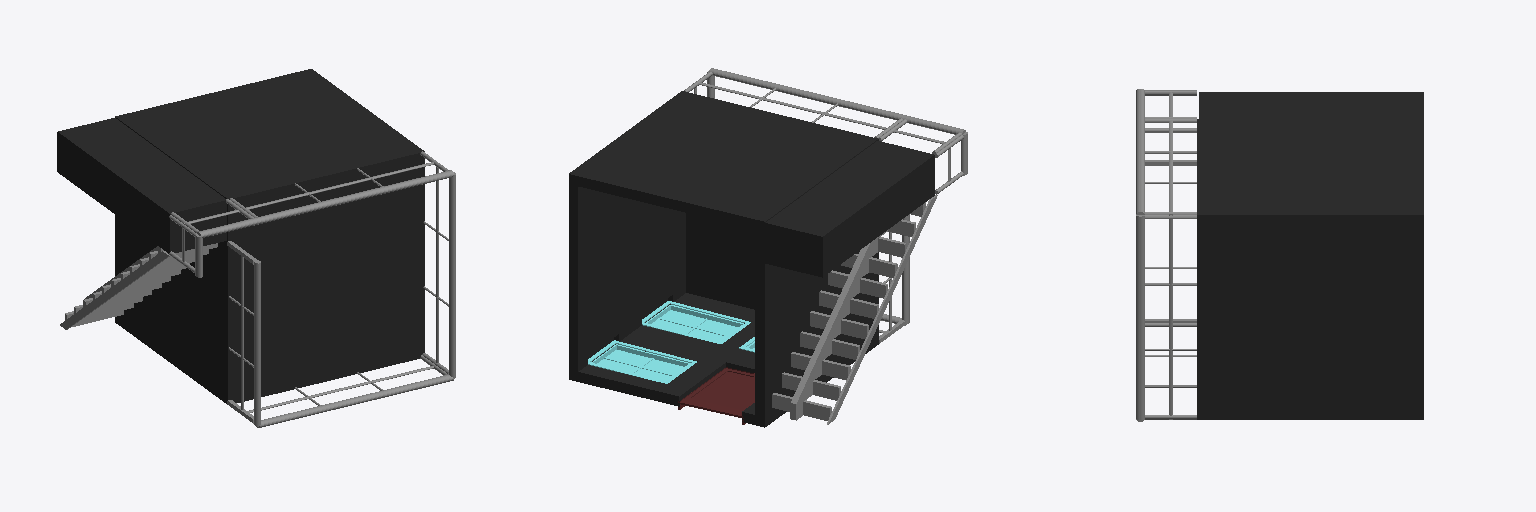
File: city.obj
3 views of the same model, side by side, from view 1: azimuth 30°, elevation 25°; view 2: azimuth 150°, elevation 25°; view 3: azimuth 270°, elevation 25° (orthographic).
Parts seen in each view (by area): view 1: Box001, Wall001, Box002, StraightStair001, Railing002, Railing003, Railing001, Railing004, Railing006, Railing005; view 2: Wall001, Box002, StraightStair001, Box001, FixedWindow001, FixedWindow002, PivotDoor001, Railing002, Railing004, Railing006, Railing005; view 3: Wall001, Box002, Box001, Railing003, Railing002, Railing006, Railing004.
Part boxes in pixels (x1,y1,x2,y2): Box001: (223, 148, 424, 403); Wall001: (115, 69, 418, 400); Box002: (57, 118, 226, 253); StraightStair001: (60, 243, 217, 329); Railing002: (230, 151, 453, 223); Railing003: (422, 167, 455, 378); Railing001: (248, 355, 453, 427); Railing004: (227, 241, 260, 426); Railing006: (171, 199, 259, 237); Railing005: (169, 215, 202, 277); Wall001: (569, 95, 872, 427); Box002: (764, 141, 934, 277); StraightStair001: (772, 195, 937, 424); Box001: (677, 91, 878, 347); FixedWindow001: (588, 340, 696, 383); FixedWindow002: (642, 301, 750, 343); PivotDoor001: (678, 367, 754, 424); Railing002: (684, 68, 906, 137); Railing004: (879, 214, 909, 343); Railing006: (878, 116, 965, 154); Railing005: (935, 132, 967, 194); Wall001: (1208, 119, 1423, 419); Box002: (1199, 92, 1423, 118); Box001: (1197, 119, 1207, 419); Railing003: (1136, 215, 1196, 419); Railing002: (1136, 117, 1196, 214); Railing006: (1136, 89, 1196, 118); Railing004: (1145, 160, 1196, 322).
Size of the model in its own units: 1.33 by 1.04 by 1.28.